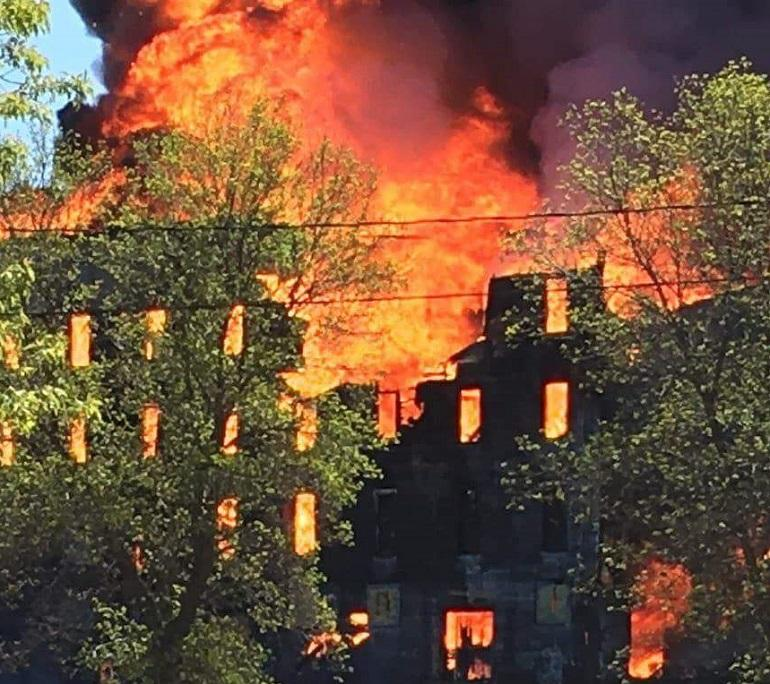Fire: (32, 18, 729, 530)
